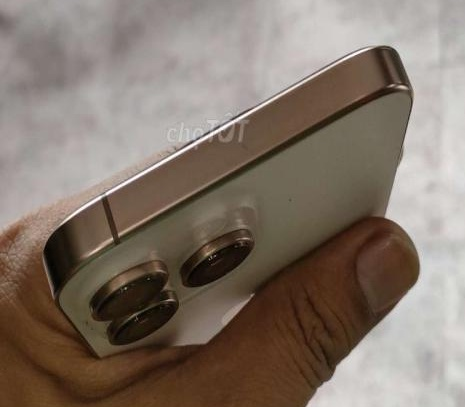scratch: (75, 313, 122, 352), (230, 131, 260, 162), (281, 190, 296, 208)
